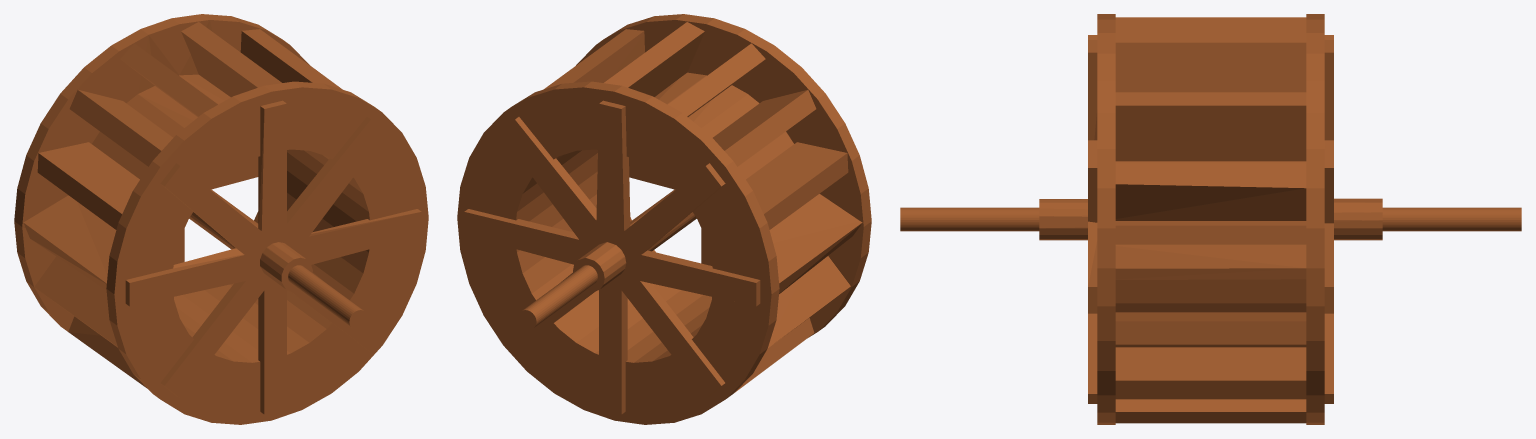
The model's file is molino.fbx.
3 views of the same model, side by side, from view 1: azimuth 30°, elevation 25°; view 2: azimuth 150°, elevation 25°; view 3: azimuth 270°, elevation 25° (orthographic). The views are drawn at different scales.
Parts seen in each view (by area): view 1: Molino; view 2: Molino; view 3: Molino.
Part boxes in pixels (left/top/right/bottom): Molino: left=14, top=14, right=428, bottom=424; Molino: left=457, top=14, right=871, bottom=424; Molino: left=900, top=14, right=1521, bottom=424.
Bounding box in the file's own units: 1410 × 1410 × 2130.
